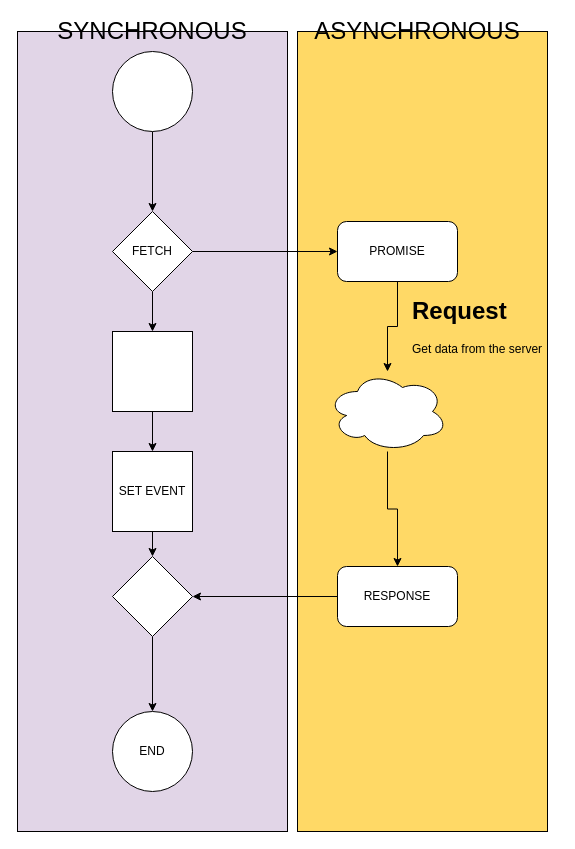
Some shapes in this 575 by 849 pixel diagram are drawn without their labels. The shapes that lost their labels are listed below. From the top down, each one's centre as x and y in pixels, then its label:
At (152,91): "START".
At (152,371): "SHOW TIME".
At (152,596): "SHOW LIST".
